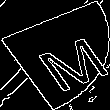M_NW: (11, 22, 99, 88)
